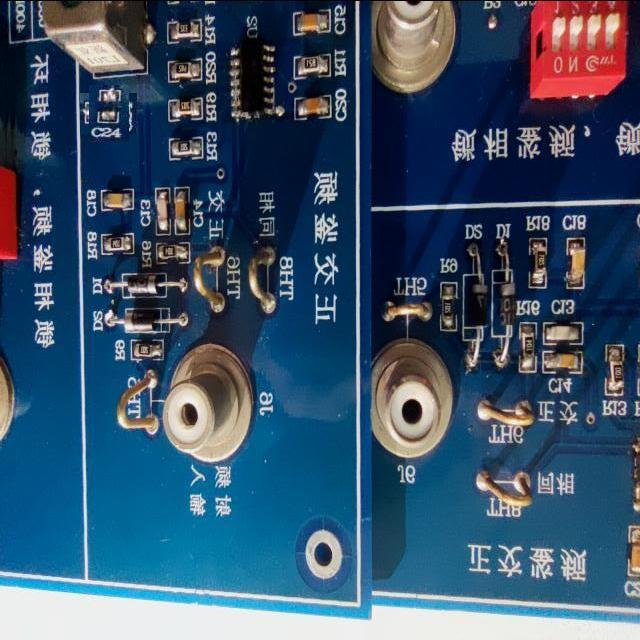miss_welding: (84, 89, 133, 138)
